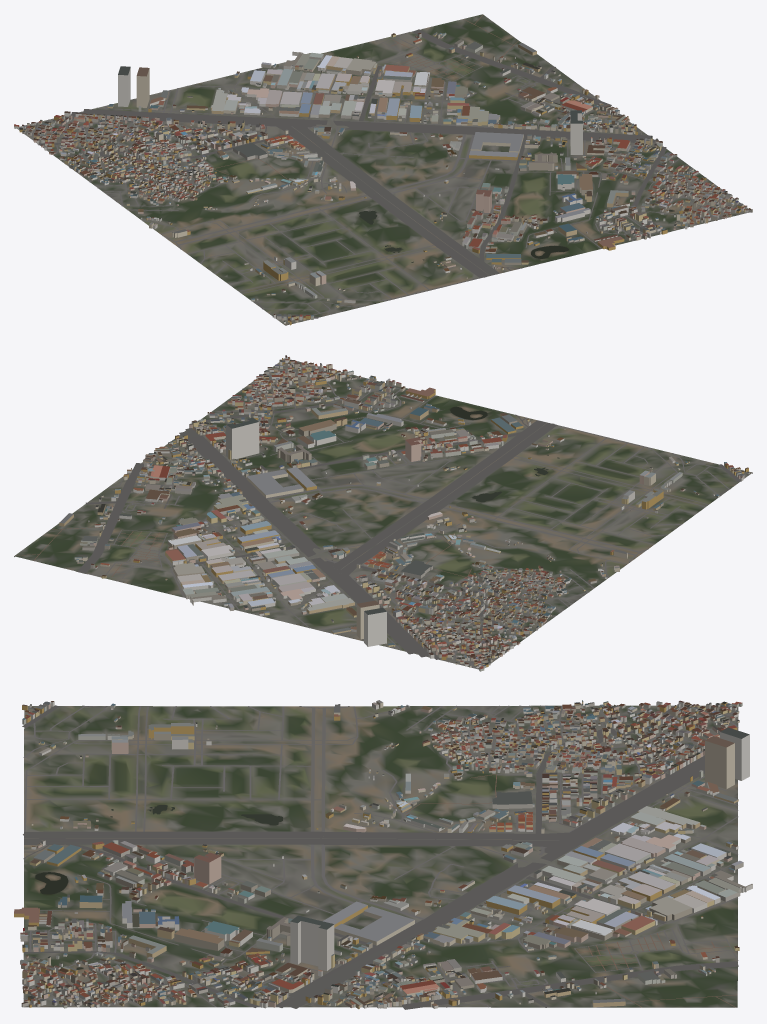
3 views of the same model, one above another, from view 1: azimuth 30°, elevation 25°; view 2: azimuth 150°, elevation 25°; view 3: azimuth 270°, elevation 25° (orthographic). The views are drawn at different scales.
Parts seen in each view (by area): view 1: ground, buildings, roads, water; view 2: ground, buildings, roads, water; view 3: ground, buildings, roads, water.
Boxes of the visible parts, x1,y1,x2,y2 form: ground: (17, 14, 749, 325); buildings: (14, 32, 752, 325); roads: (26, 14, 739, 325); water: (359, 209, 674, 262); ground: (14, 358, 752, 669); buildings: (59, 355, 749, 671); roads: (16, 361, 752, 668); water: (84, 386, 559, 573); ground: (23, 705, 738, 1007); buildings: (14, 700, 752, 1009); roads: (22, 705, 738, 1009); water: (35, 805, 737, 969).
Bounding box in the file's own units: 1418 × 95.48 × 1451.
